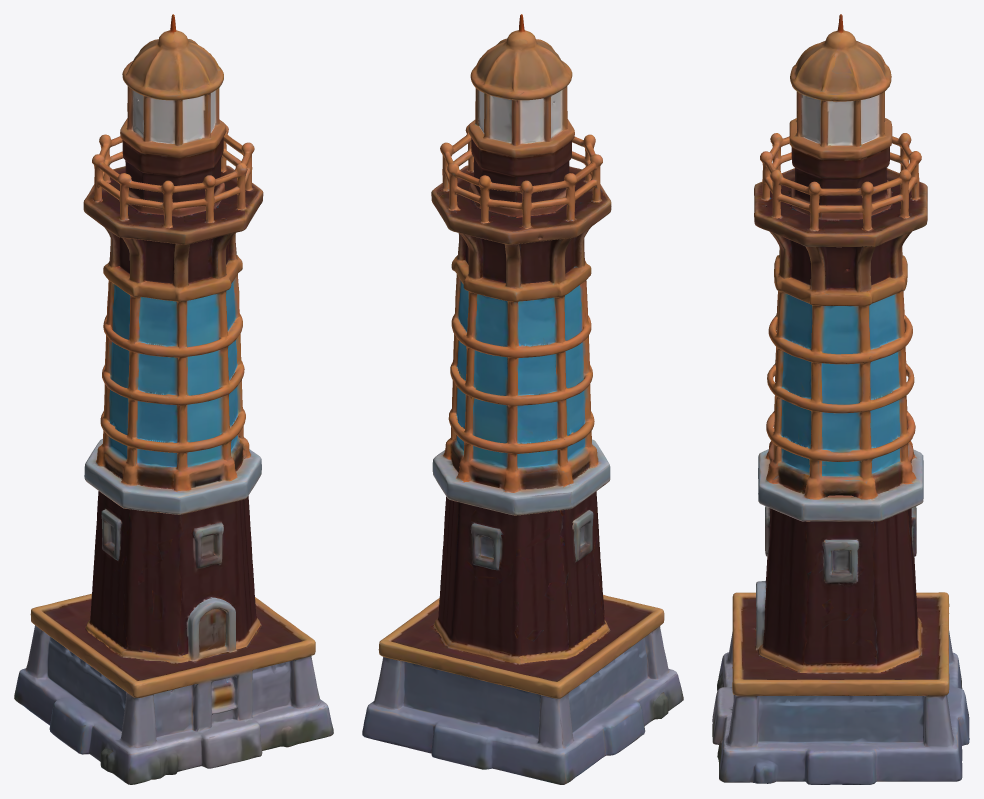
File: directl.glb
The picture shows the model from 3 angles, left to right: view 1: azimuth 30°, elevation 25°; view 2: azimuth 150°, elevation 25°; view 3: azimuth 270°, elevation 25°; orthographic projection. The views are drawn at different scales.
Parts seen in each view (by area): view 1: world; view 2: world; view 3: world.
Boxes of the visible parts, <box> form: world: <box>14,14,333,784</box>; world: <box>362,14,683,784</box>; world: <box>712,14,969,784</box>.
Bounding box in the file's own units: 0.3234 × 0.9992 × 0.3243.
1 material, 1 textured.
